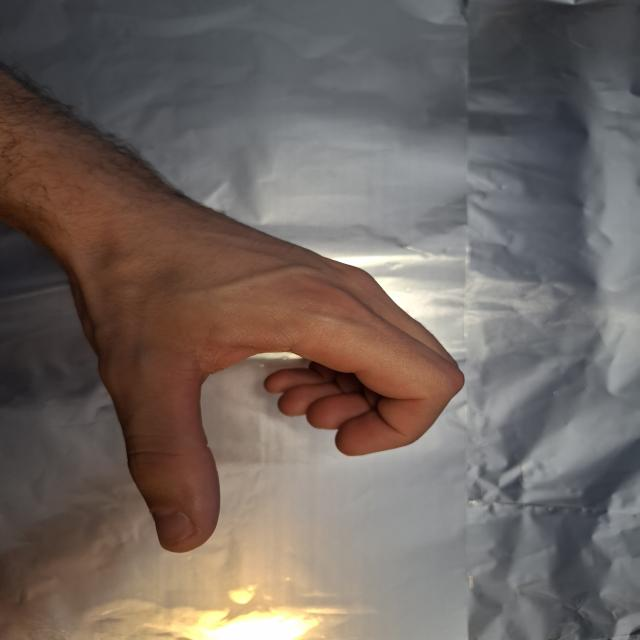glove_off: (52, 183, 468, 552)
